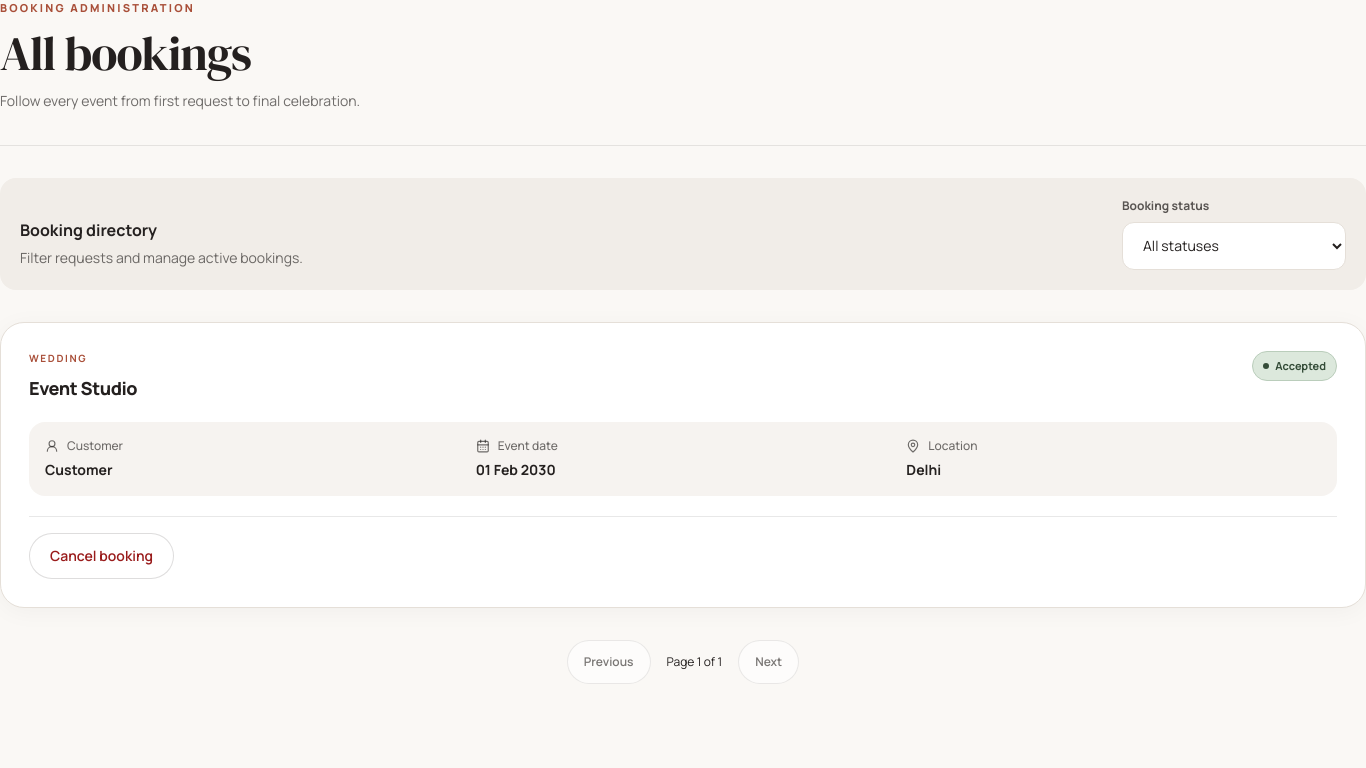
Test: admin booking controls › keeps a failed cancellation recoverable inside the dialog
Click the button "Cancel booking" at (102, 556), box [29, 532, 174, 578]
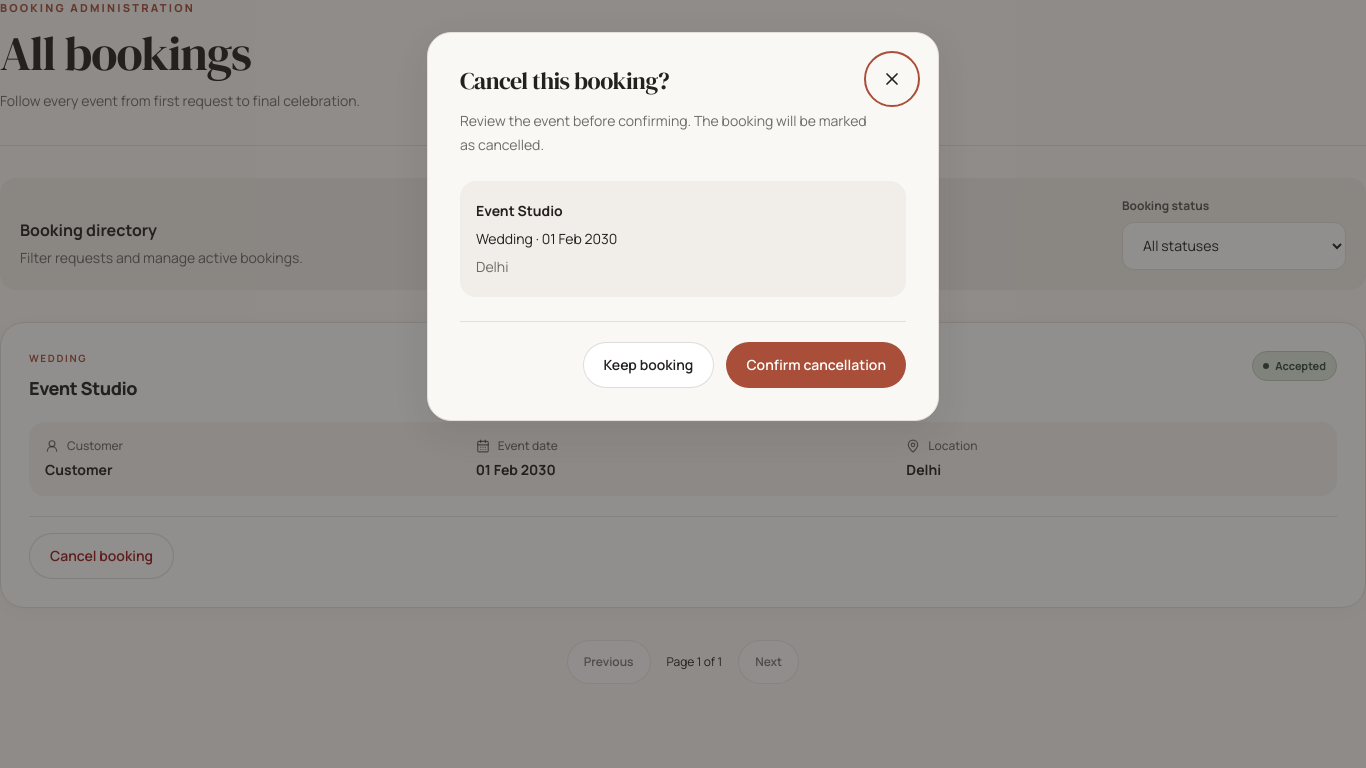
Click the button "Confirm cancellation" at (816, 365), box [726, 342, 906, 388]
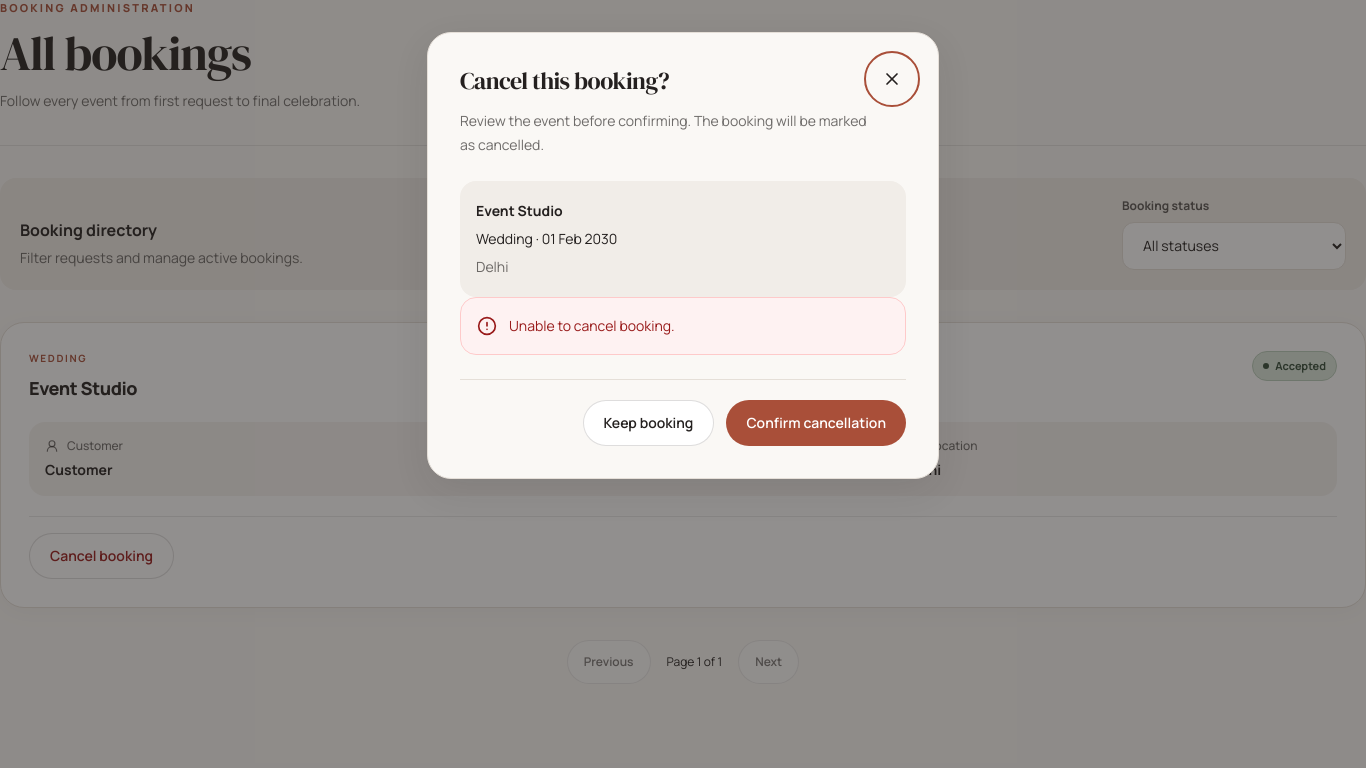
Result: the button "Confirm cancellation" is enabled at [726, 400, 906, 446]
Result: the message reads "Unable to cancel booking." at [509, 316, 675, 335]
